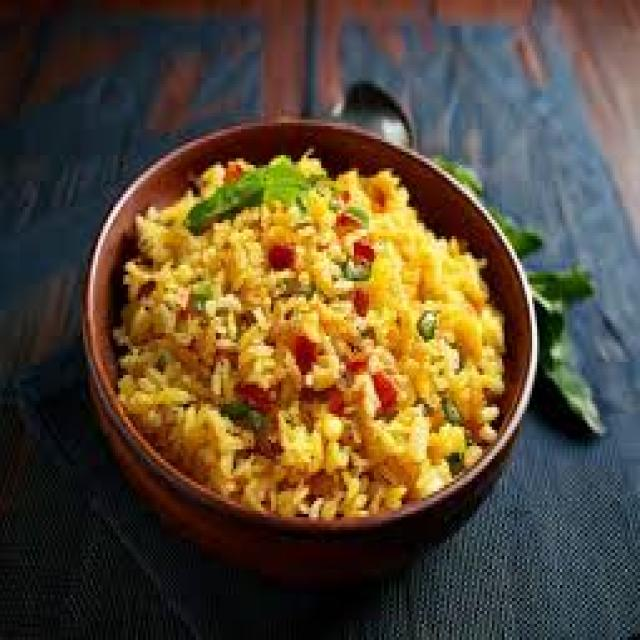UPMA: (124, 157, 502, 500)
